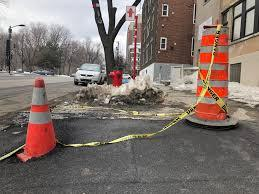car: (74, 63, 106, 86), (122, 74, 131, 84)
traffic cone: (16, 77, 58, 163)
